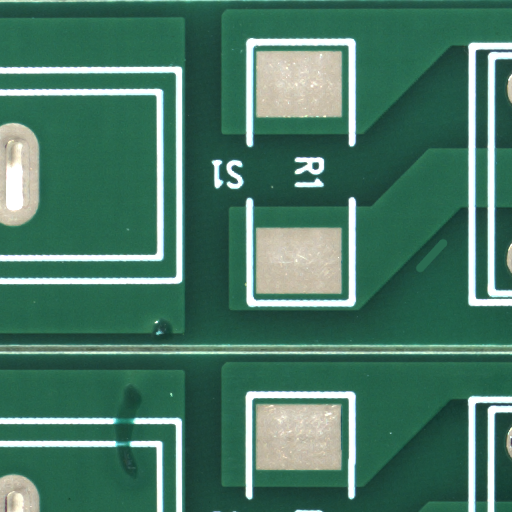Spurious_copper: (432, 254, 464, 285)
